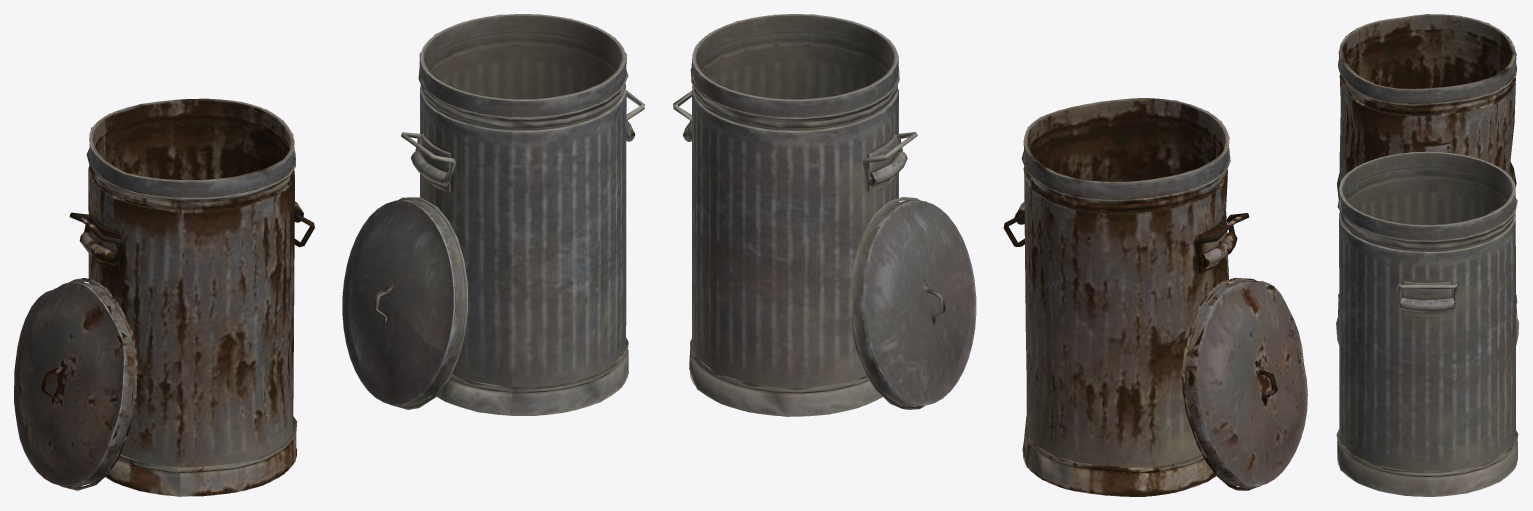
Rendered from ph_metal_trash_can.glb.
3 views of the same model, side by side, from view 1: azimuth 30°, elevation 25°; view 2: azimuth 150°, elevation 25°; view 3: azimuth 270°, elevation 25° (orthographic). The views are drawn at different scales.
Parts seen in each view (by area): view 1: metal_trash_can_handle_left; view 2: metal_trash_can_handle_left; view 3: metal_trash_can_handle_left.
Part boxes in pixels (x1,y1,x2,y2): metal_trash_can_handle_left: [14, 14, 644, 496]; metal_trash_can_handle_left: [673, 14, 1307, 496]; metal_trash_can_handle_left: [1336, 14, 1518, 496].
Bounding box in the file's own units: 1.78 × 0.9063 × 0.5571.
3 materials, 3 textured.
